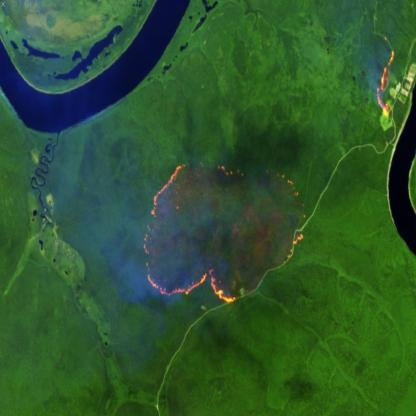fire: (142, 161, 235, 309), (373, 33, 397, 119)
